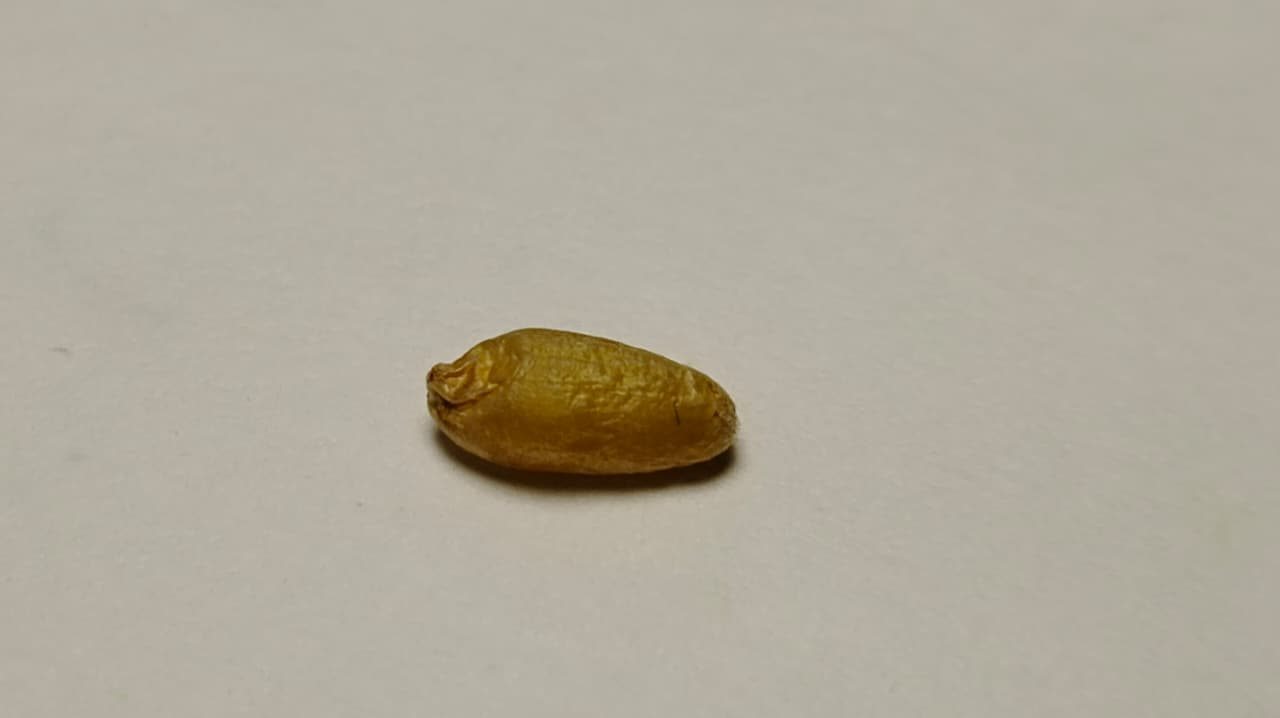healthy: (427, 325, 738, 474)
